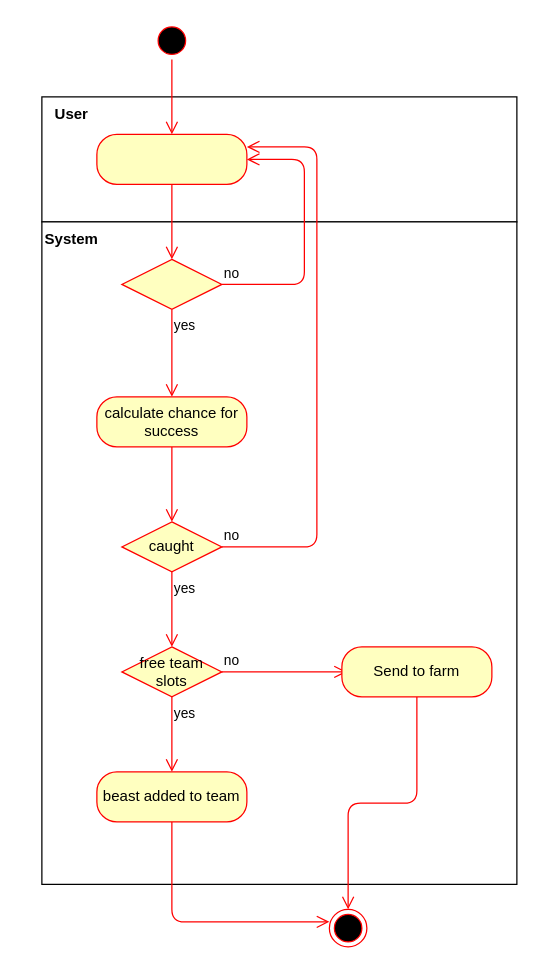
Image size: 539x969. Some labels were removed from this diagram. The shapes that lost their labels are listed below. From the top down, each one's centre as x and y in pixels, then its label:
At (x=171, y=158): "Pick Catch".
At (x=171, y=283): "Has cages?".
